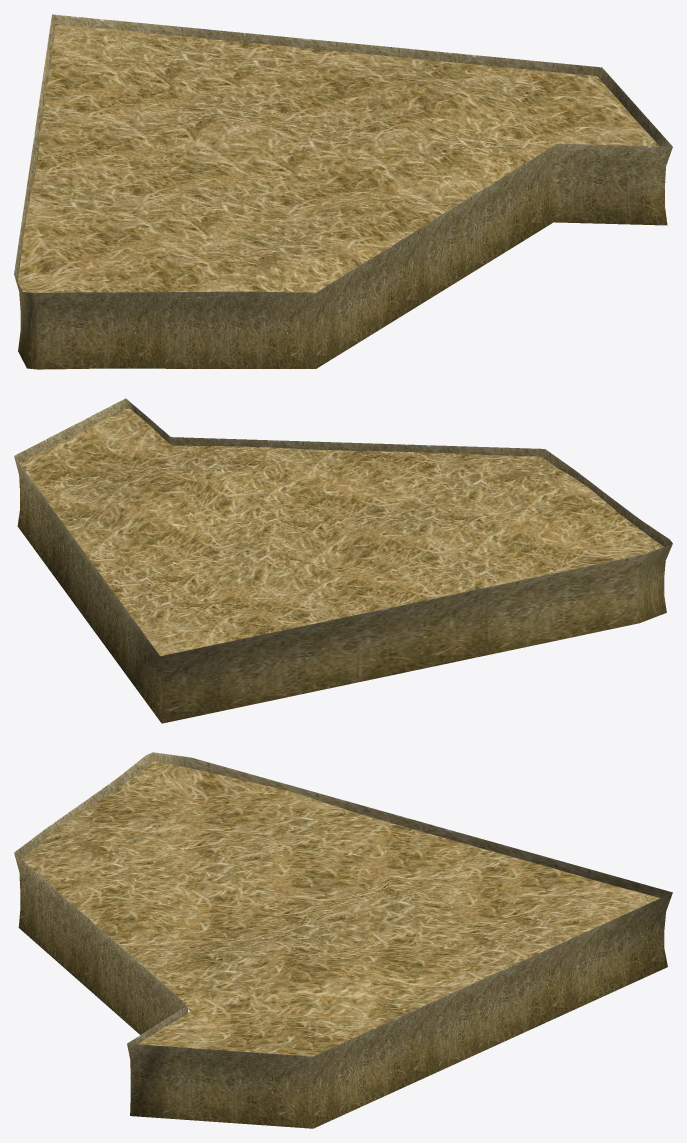
File: cornfield.FBX
3 renders of one model, top to bottom at view 1: azimuth 30°, elevation 25°; view 2: azimuth 150°, elevation 25°; view 3: azimuth 270°, elevation 25°, orthographic. The views are drawn at different scales.
Visible parts, largest first — view 1: pole; view 2: pole; view 3: pole.
Part boxes in pixels (<box>): pole: <box>14,14,672,369</box>; pole: <box>14,398,672,723</box>; pole: <box>14,752,672,1128</box>.
Size of the model in its own units: 404 by 50.86 by 370.
1 material, 1 textured.
